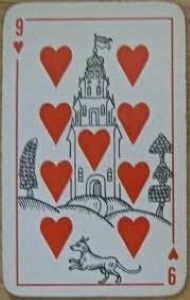NineOfHearts: (1, 1, 187, 297)
